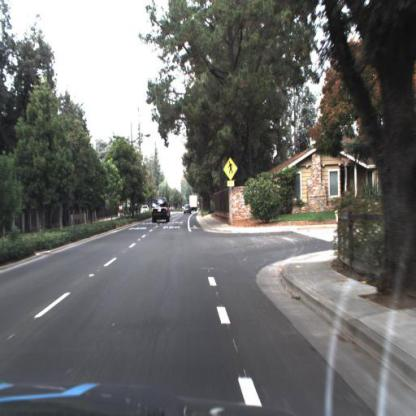car: (149, 196, 172, 228), (138, 201, 150, 217), (190, 195, 200, 212), (183, 204, 193, 217), (141, 204, 151, 216)
truck: (187, 193, 200, 219)
